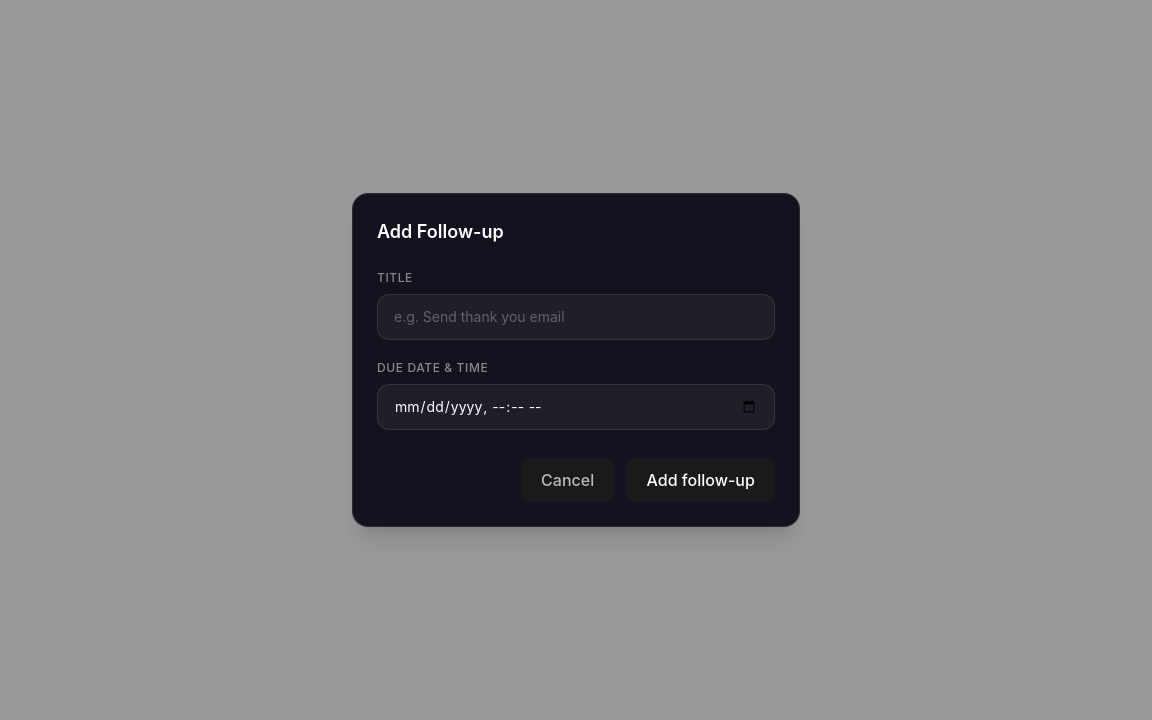
FollowUpForm › shows a validation error when submitted without a title
The width and height of the screenshot is (1152, 720).
Step 1. Type "2026-08-03T09:00" into the field labelled "Due Date & Time" → (576, 407), box [377,384,775,430]
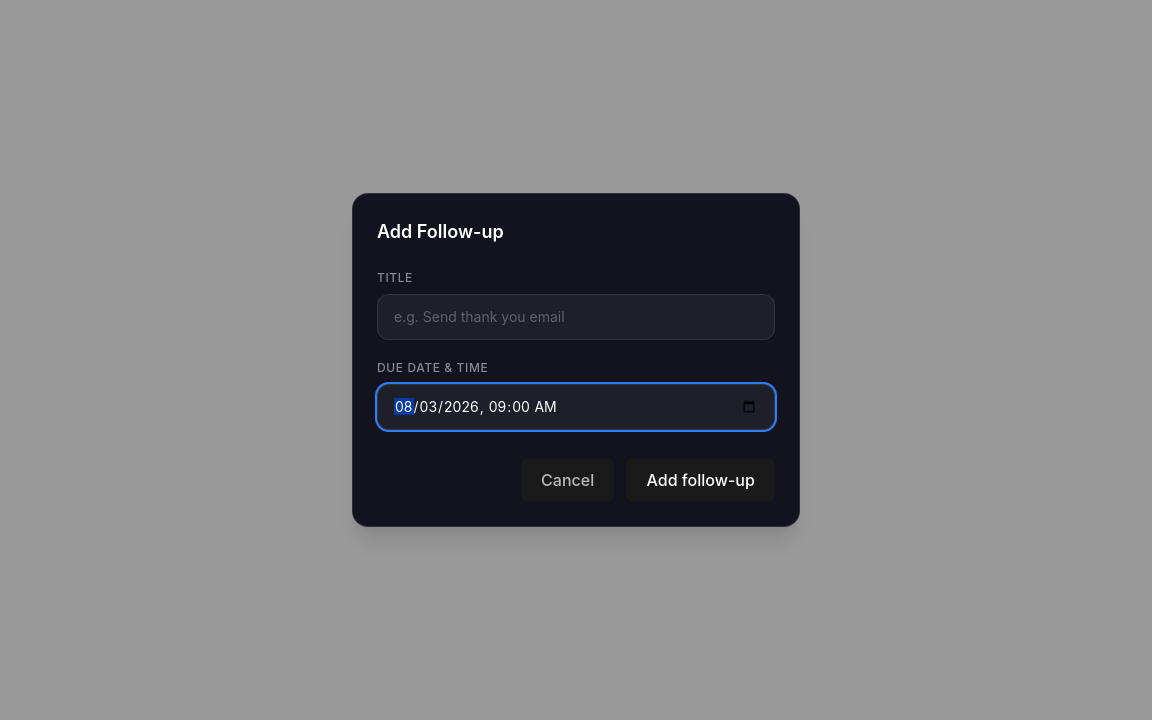
Step 2. Click the button "Add follow-up" → (701, 480), box [626,458,775,502]
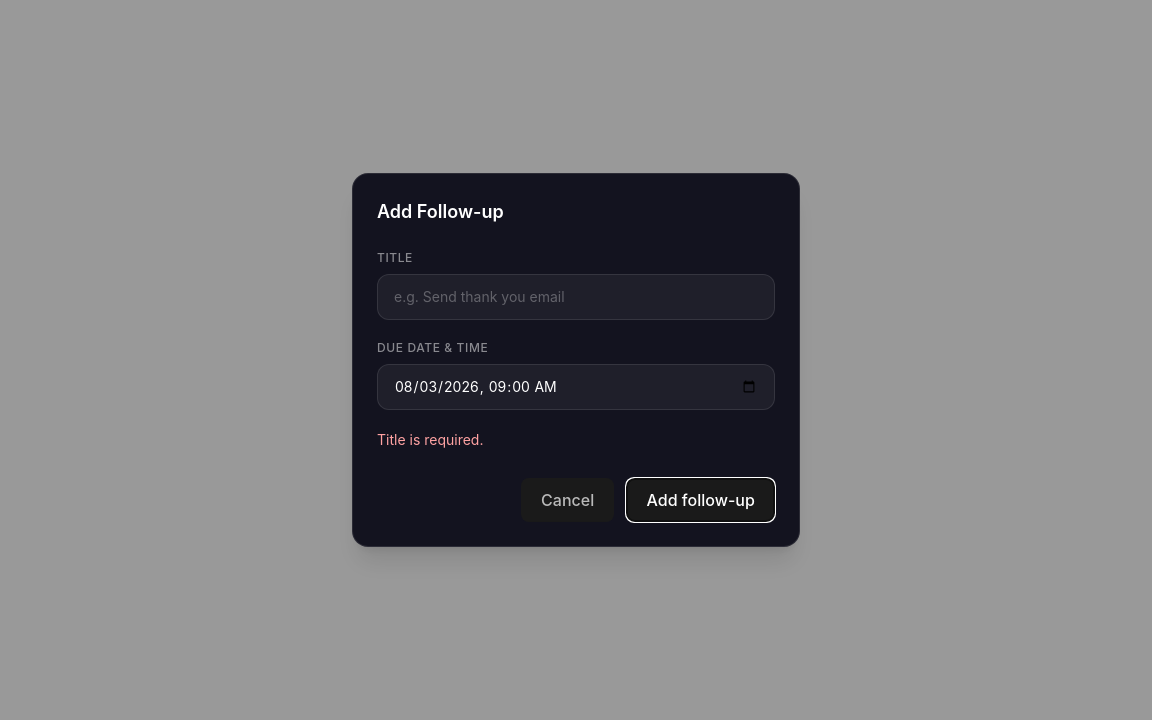
Result: the message shows "Title is required" at [377,431,484,448]
